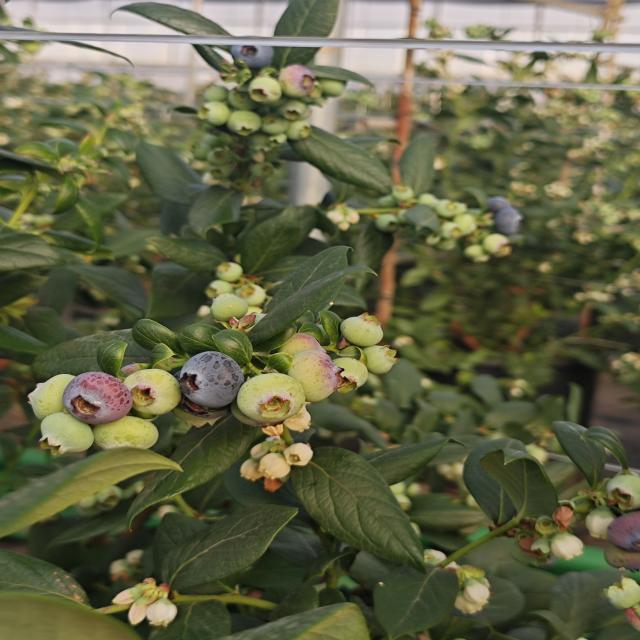ripe: (178, 349, 242, 404), (477, 193, 527, 236)
